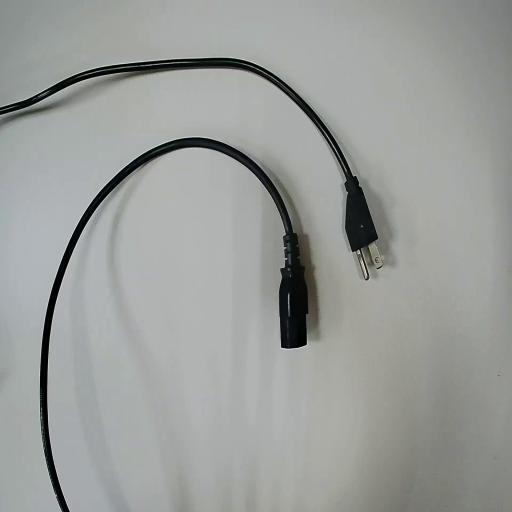wire: (41, 138, 308, 511), (0, 59, 377, 250)
